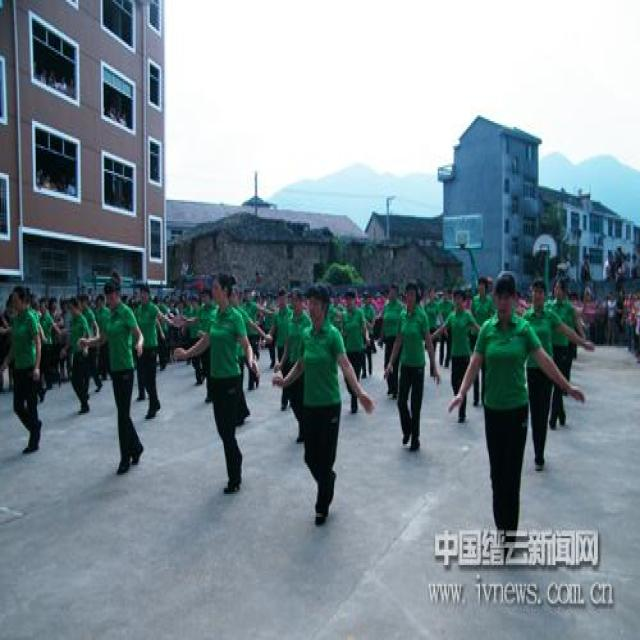non-fight: (449, 268, 584, 566), (276, 273, 368, 528), (174, 271, 259, 496), (528, 276, 592, 474), (91, 276, 147, 476), (0, 286, 50, 456), (384, 278, 433, 450), (432, 286, 476, 417), (58, 296, 94, 415)
